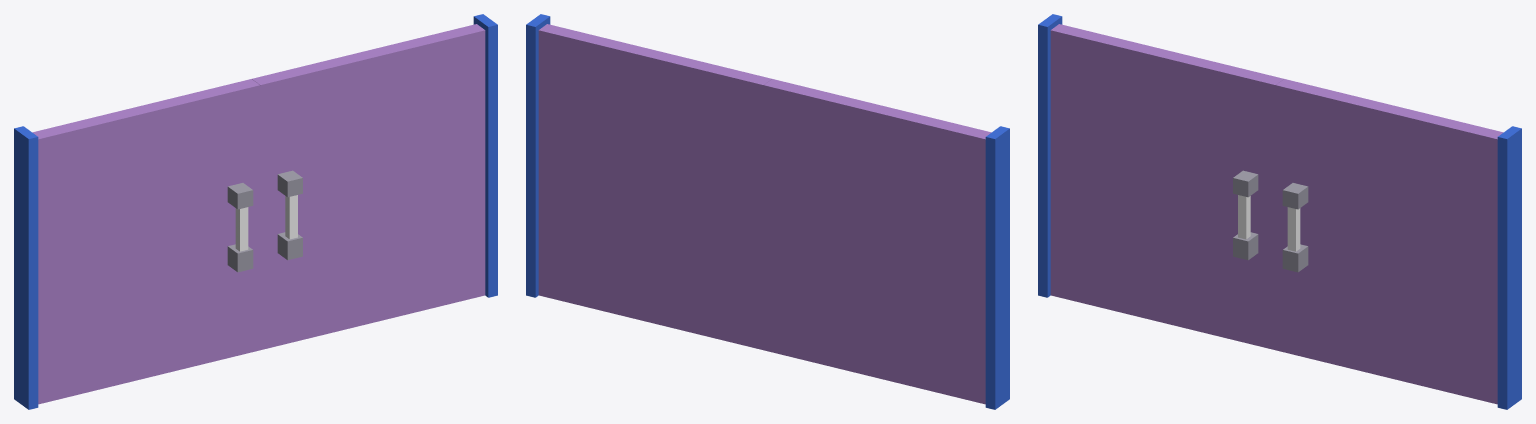
The model's file is Door_01.fbx.
3 renders of one model, left to right at view 1: azimuth 30°, elevation 25°; view 2: azimuth 150°, elevation 25°; view 3: azimuth 330°, elevation 25°, orthographic.
Visible parts, largest first — view 1: Part_01_1, Part_01_2; view 2: Part_01_1, Part_01_2; view 3: Part_01_2, Part_01_1.
Part boxes in pixels (x1,y1,x2,y2): Part_01_1: (14,79,260,409); Part_01_2: (252,14,497,350); Part_01_1: (763,79,1009,409); Part_01_2: (526,14,771,350); Part_01_2: (1275,79,1521,409); Part_01_1: (1038,14,1283,350).
Size of the model in its own units: 13.32 by 7.35 by 1.07.
1 material, 1 textured.
